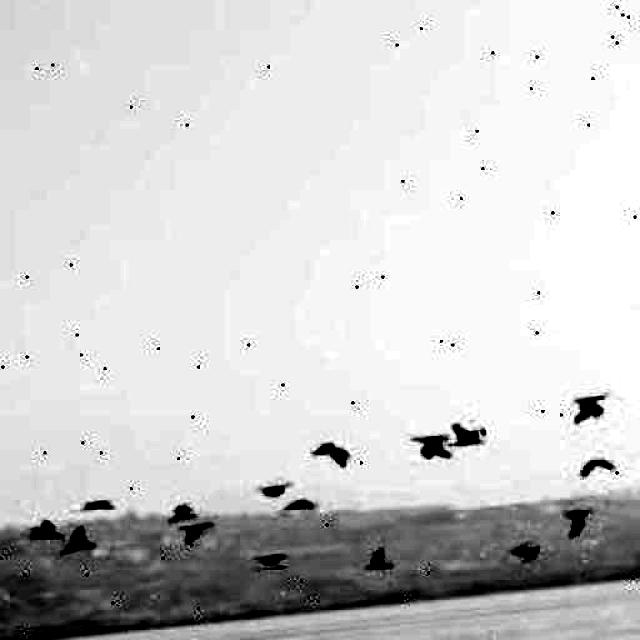airplane: (566, 389, 616, 425), (405, 430, 452, 462), (309, 439, 355, 471), (55, 525, 98, 558), (442, 420, 486, 448), (21, 516, 65, 544), (562, 508, 599, 539), (176, 520, 216, 544), (360, 544, 394, 572), (275, 495, 319, 515), (162, 502, 200, 524), (251, 479, 292, 499), (578, 458, 616, 476), (506, 542, 540, 562), (72, 499, 114, 515), (252, 554, 289, 570)
